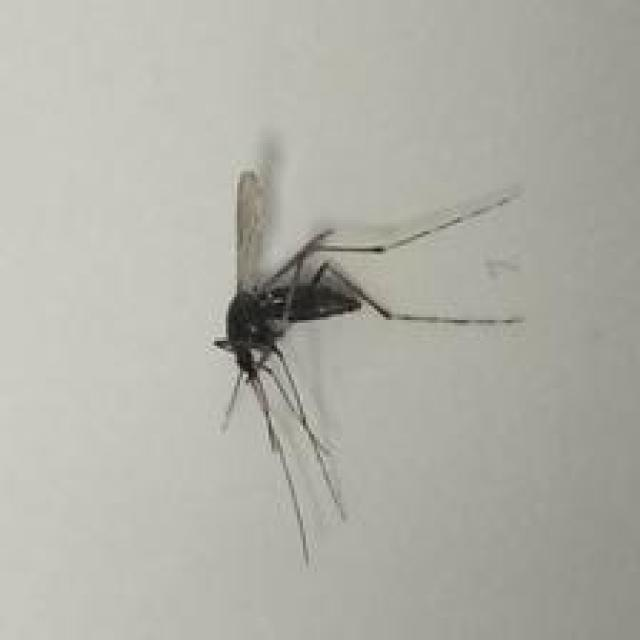Aedes albopictus: (211, 165, 526, 566)
